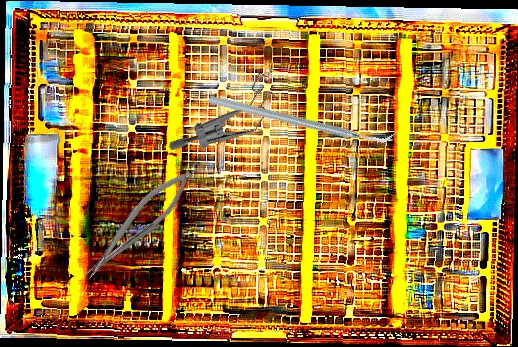Chopper: (205, 30, 399, 207)
Needle Holder: (74, 162, 202, 285)
Speculum: (165, 45, 290, 185)
